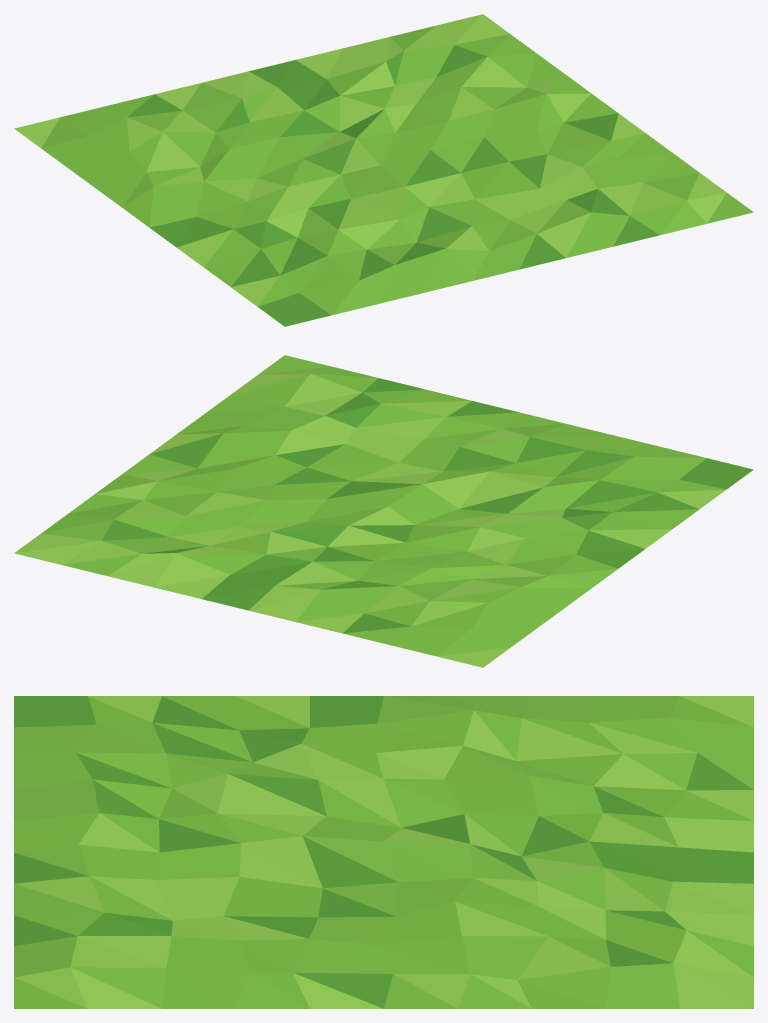
File: terreno_tile_20m_v1.glb
3 views of the same model, one above another, from view 1: azimuth 30°, elevation 25°; view 2: azimuth 150°, elevation 25°; view 3: azimuth 270°, elevation 25° (orthographic). The views are drawn at different scales.
Visible parts, largest first — view 1: terreno_pasto, terreno_pasto_claro, terreno_pasto_oscuro; view 2: terreno_pasto, terreno_pasto_claro, terreno_pasto_oscuro; view 3: terreno_pasto, terreno_pasto_claro, terreno_pasto_oscuro.
Boxes of the visible parts, x1,y1,x2,y2 form: terreno_pasto: (41,25,753,315); terreno_pasto_claro: (14,14,726,306); terreno_pasto_oscuro: (127,45,659,326); terreno_pasto: (41,355,725,656); terreno_pasto_claro: (14,366,726,667); terreno_pasto_oscuro: (102,378,753,633); terreno_pasto: (14,696,753,1008); terreno_pasto_claro: (14,696,753,1008); terreno_pasto_oscuro: (14,696,753,1008).
Bounding box in the file's own units: 20 × 0.3478 × 20.
